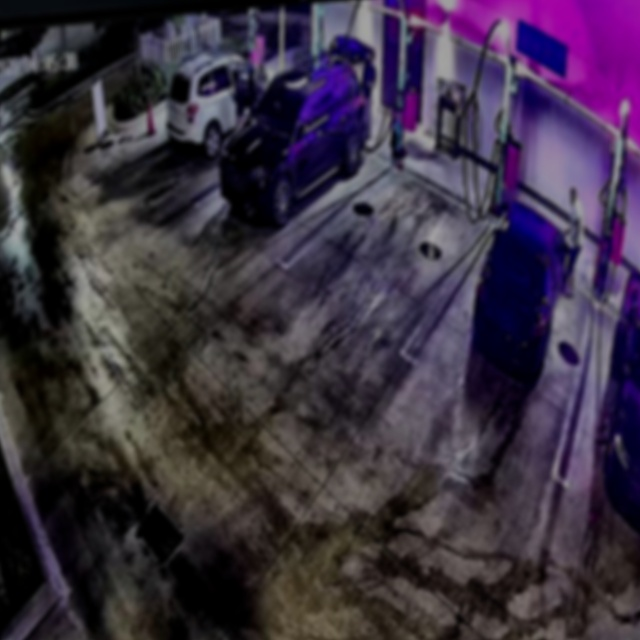Car: (214, 36, 374, 231), (469, 198, 566, 383), (162, 45, 284, 158)
